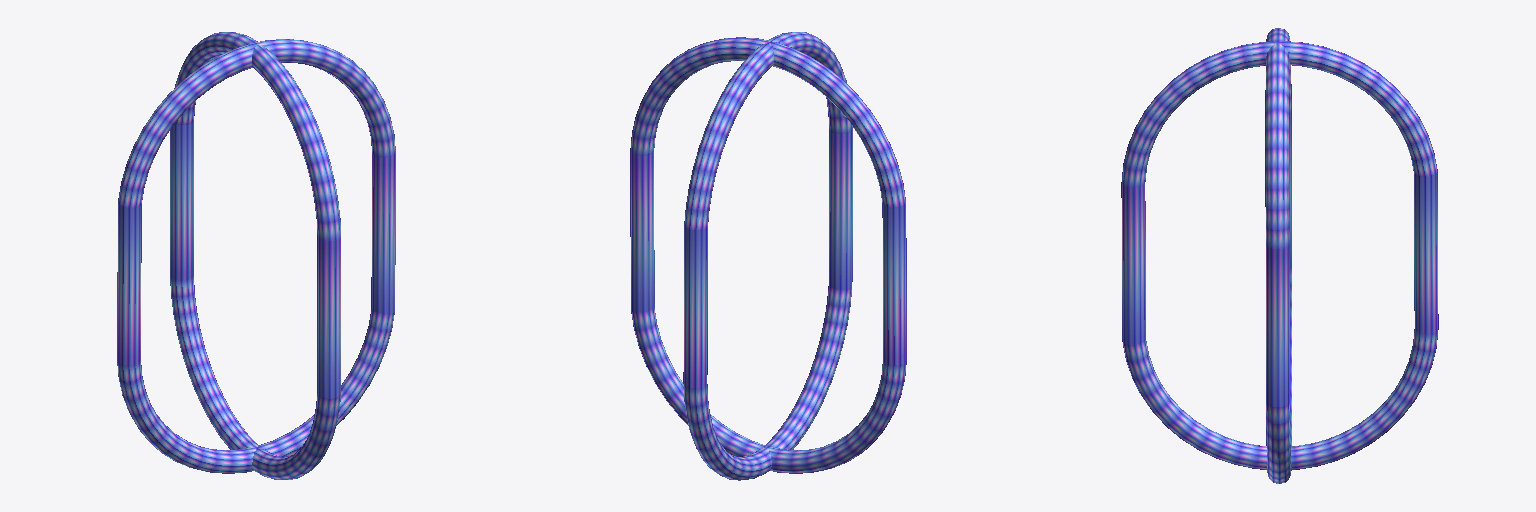
3 views of the same model, side by side, from view 1: azimuth 30°, elevation 25°; view 2: azimuth 150°, elevation 25°; view 3: azimuth 270°, elevation 25° (orthographic).
Parts seen in each view (by area): view 1: Torus.001_Torus.002, Torus; view 2: Torus.001_Torus.002, Torus; view 3: Torus, Torus.001_Torus.002.
Boxes of the visible parts, box(x1,y1,x2,y2) form: Torus.001_Torus.002: box(117, 39, 395, 473); Torus: box(170, 32, 340, 479); Torus.001_Torus.002: box(630, 37, 906, 473); Torus: box(683, 32, 852, 480); Torus: box(1121, 41, 1438, 469); Torus.001_Torus.002: box(1265, 28, 1291, 483).
Size of the model in its own units: 3.92 by 5.82 by 3.92.
2 materials, 1 textured.